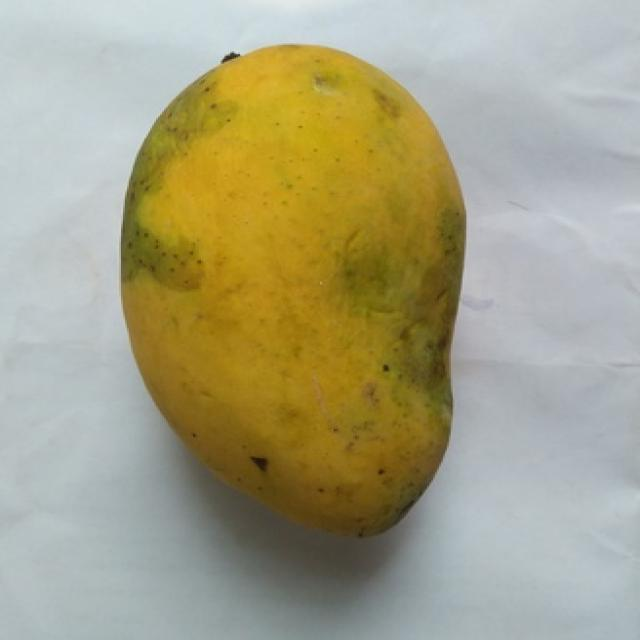Mango: (121, 45, 464, 535)
